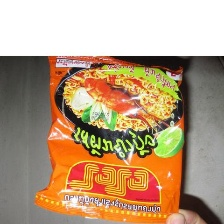snack: (28, 56, 195, 224)
